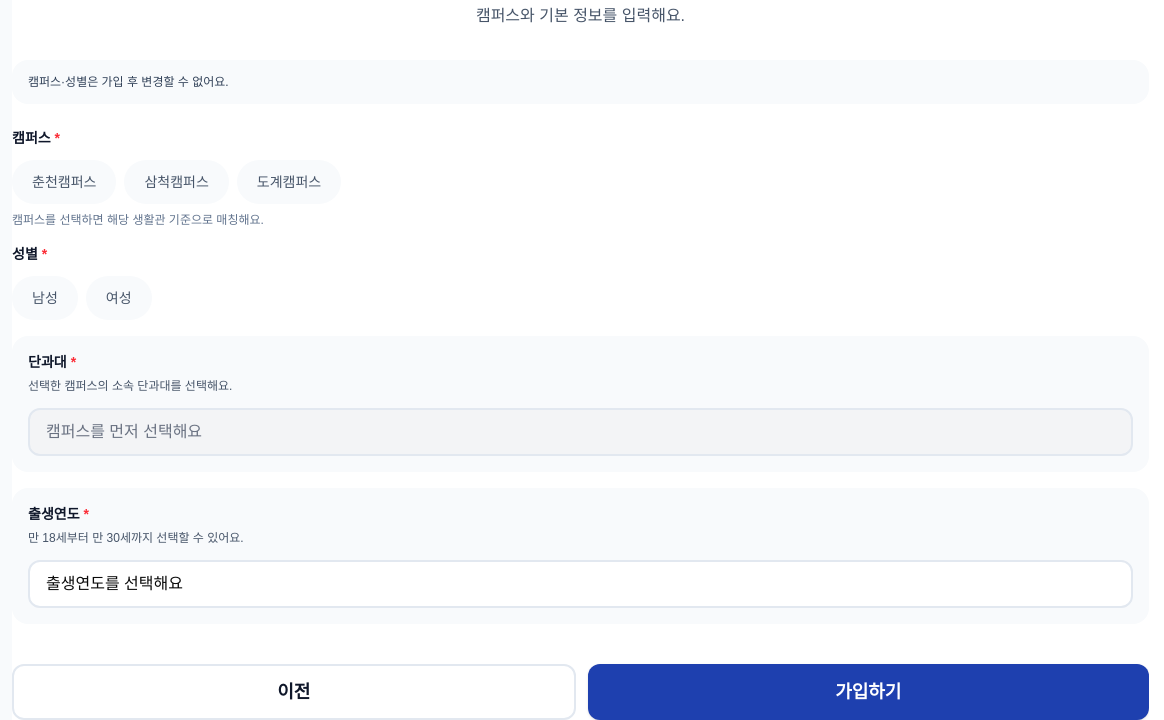
Test: AcademicIdentityStep › 학교·기본 정보가 비어 있으면 해당 오류를 한 화면에서 안내한다
This screenshot has width=1164, height=720.
(page scrolled)
Click the button "가입하기". click: (868, 692)
box: [588,664,1149,719]
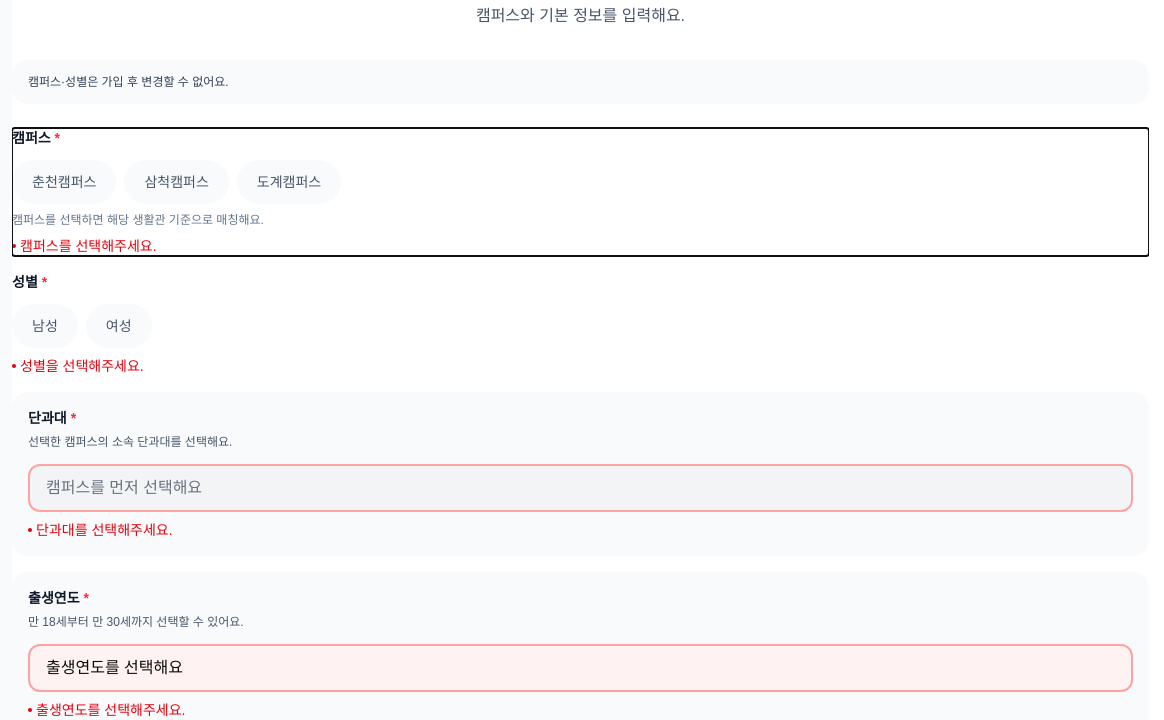
Now the text "캠퍼스를 선택해주세요." is shown, box [12,238,157,254]
Now the text "성별을 선택해주세요." is shown, box [12,358,144,374]
Now the text "단과대를 선택해주세요." is shown, box [28,522,173,538]
